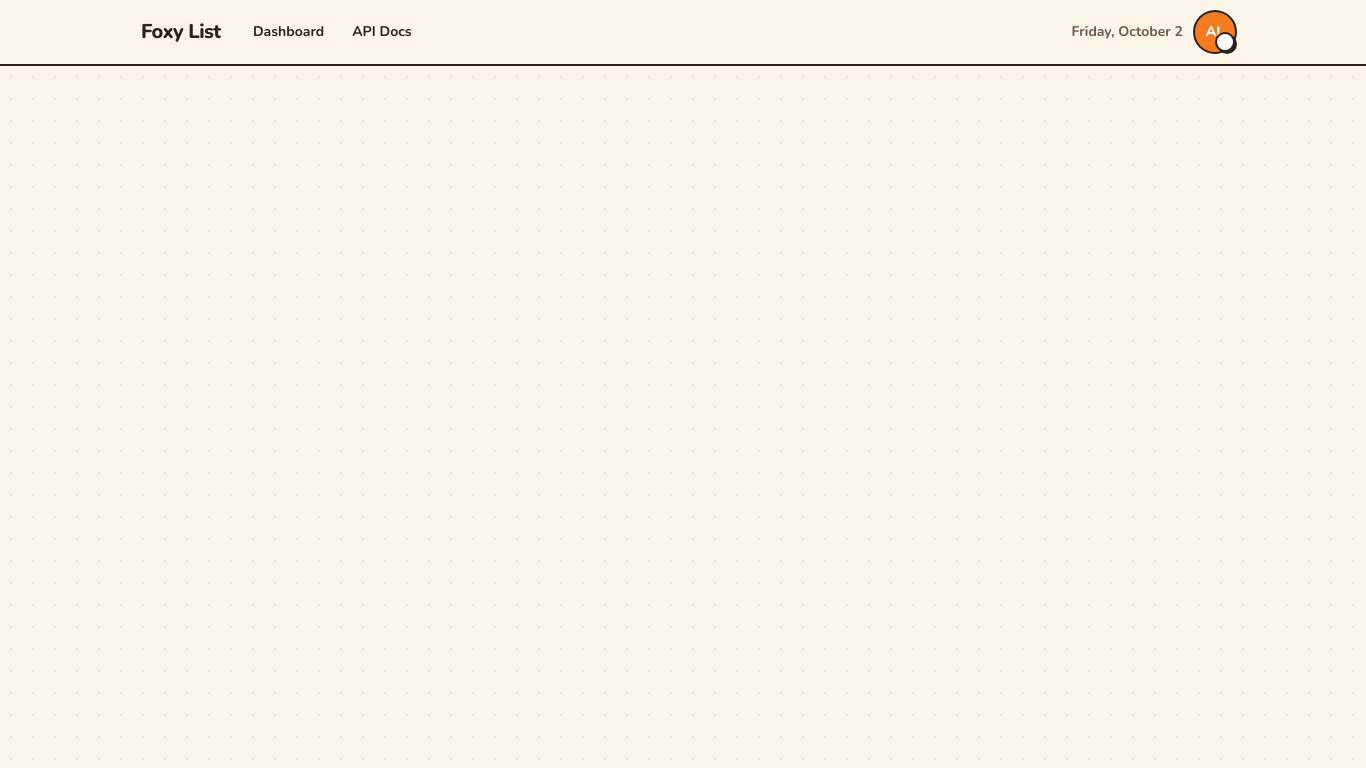
Test: the profile picture in the View Profile drawer › shows the initials and a camera badge when no picture has been uploaded
Click the button with aria-label "Open account menu".
click(1215, 32)  # box [1195,12,1235,52]
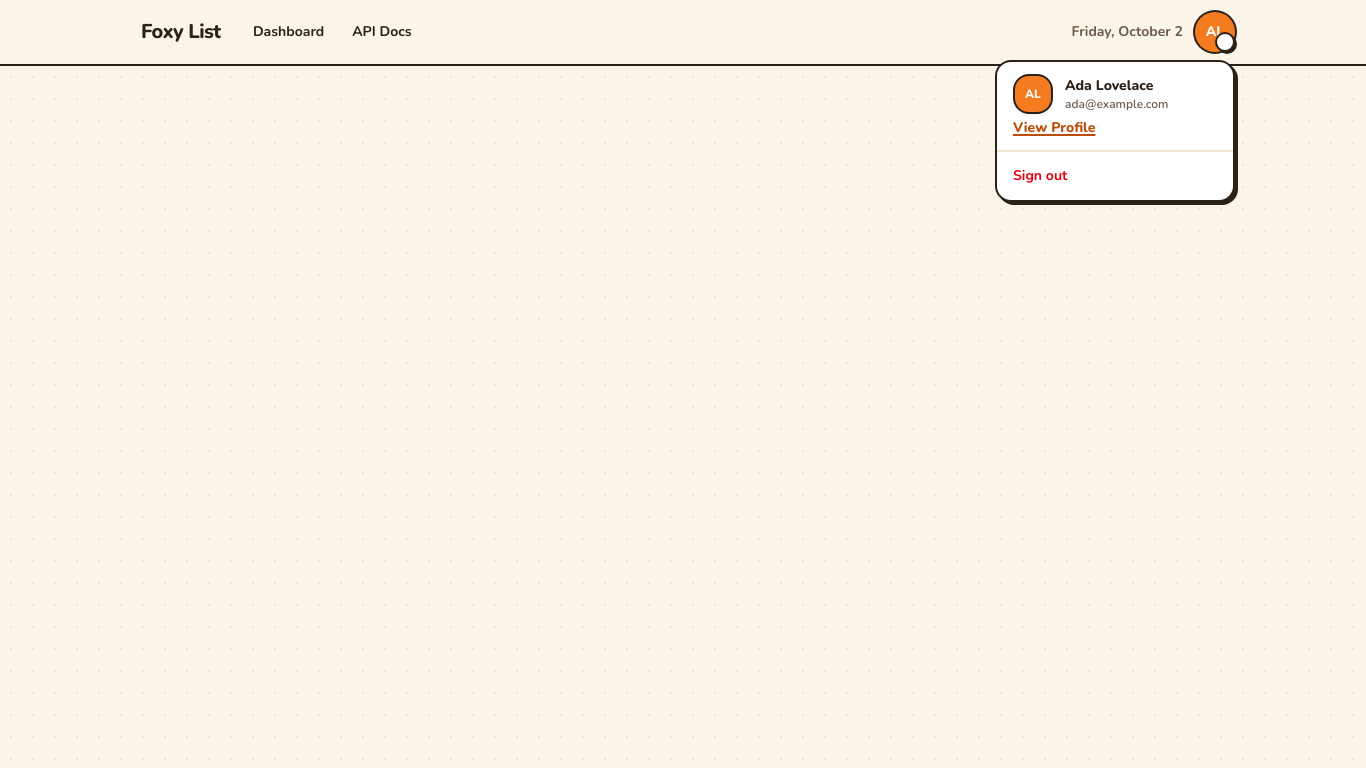
Click the menu item "View Profile".
click(1054, 128)  # box [1013,118,1095,138]
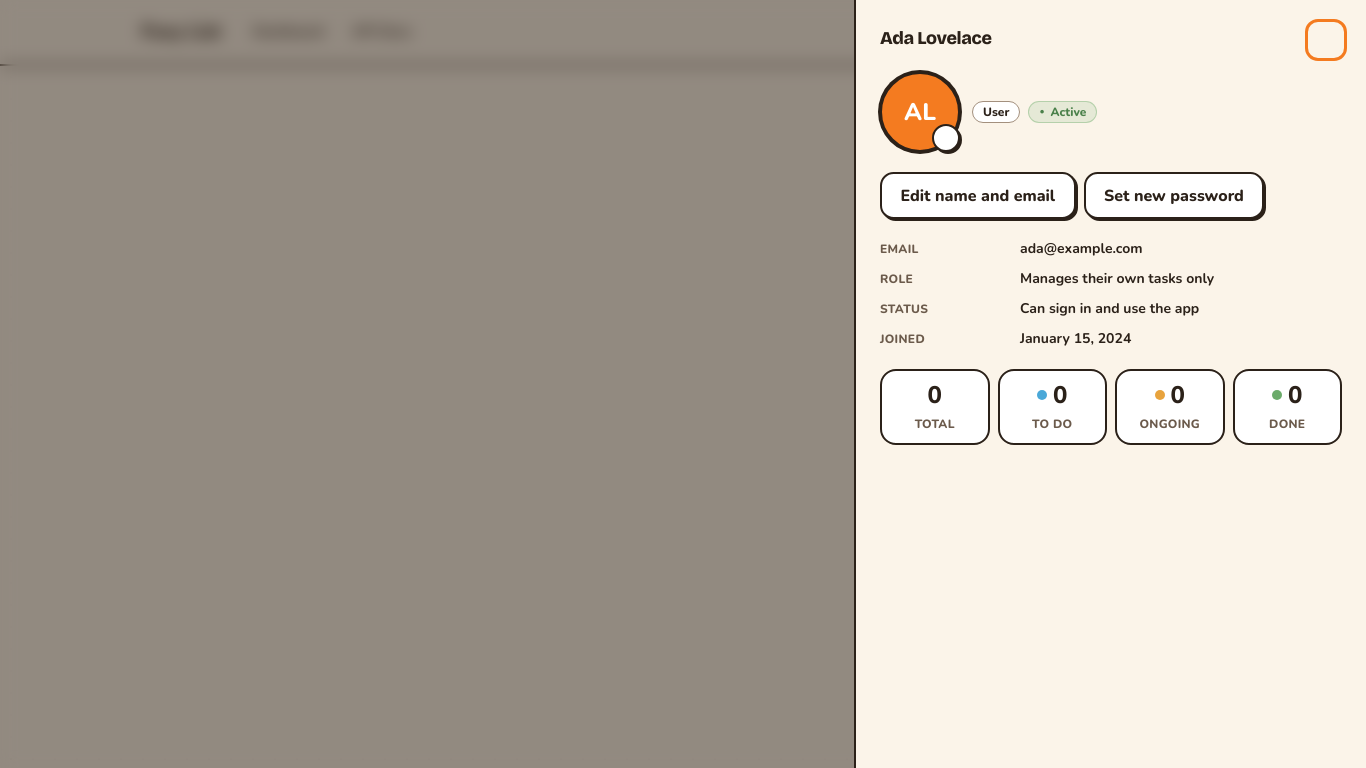
Now the text "AL" is shown, box [904,96,936,128]
Now the button with aria-label "Change your profile picture" is shown, box [880,72,960,152]
